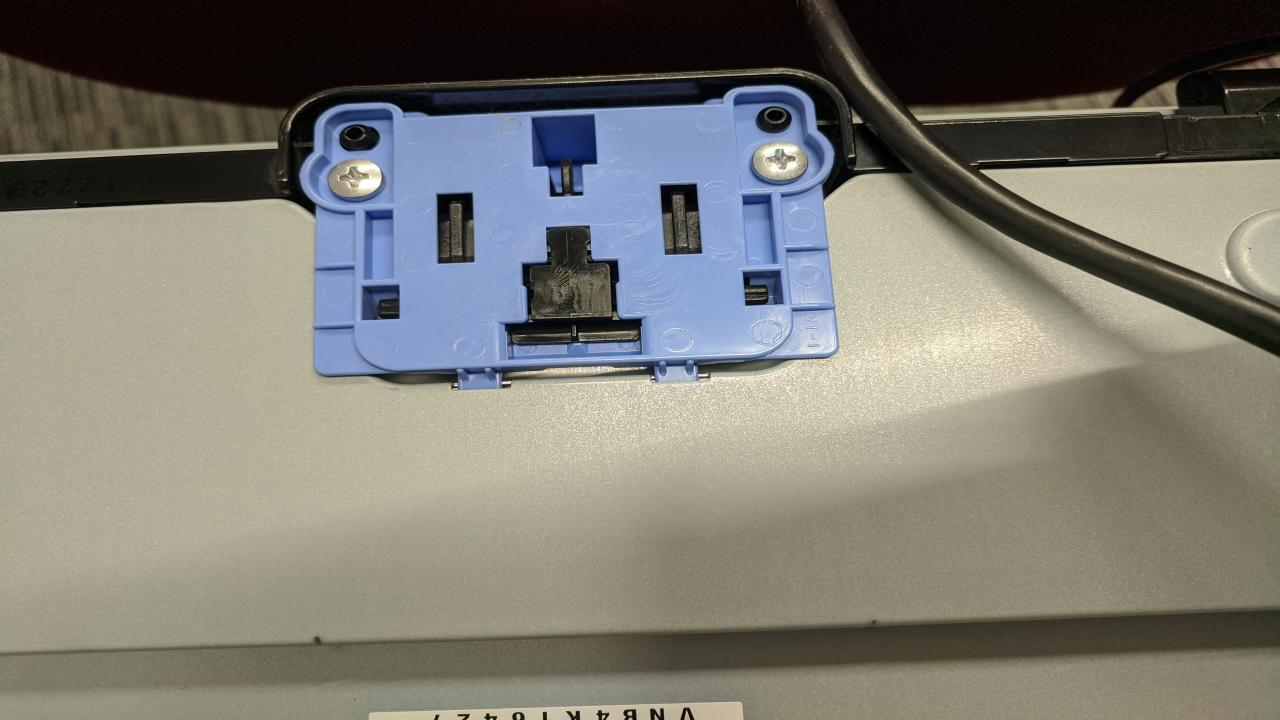CRS: (326, 159, 388, 200), (750, 141, 807, 182)
